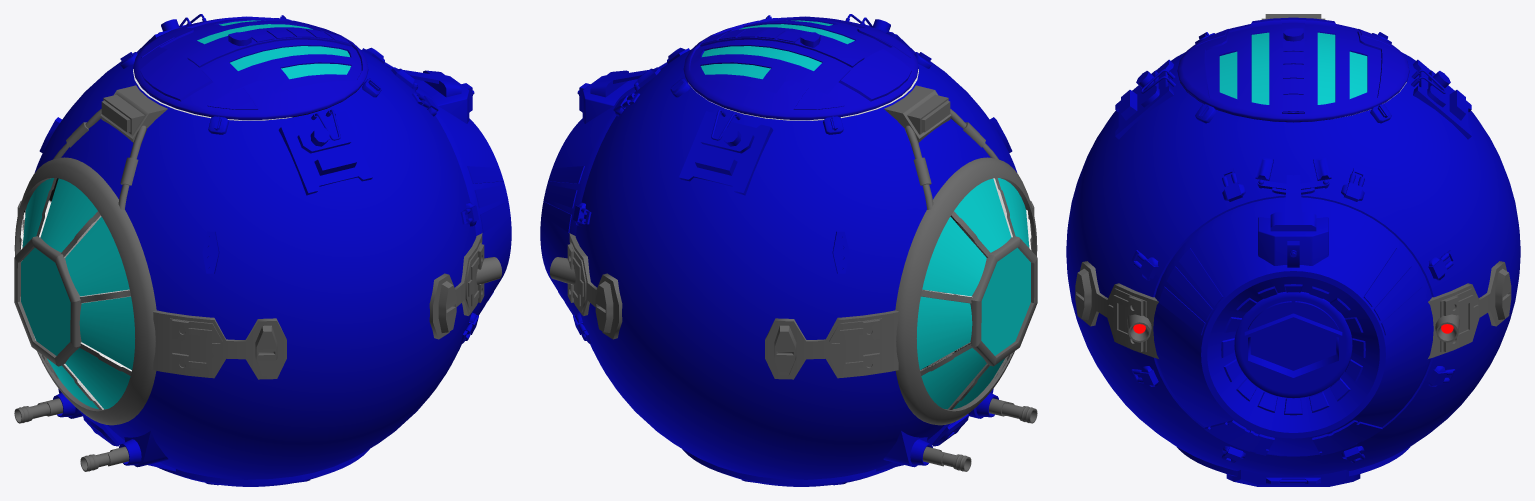
File: tiecockpit.fbx
The picture shows the model from 3 angles, left to right: view 1: azimuth 30°, elevation 25°; view 2: azimuth 150°, elevation 25°; view 3: azimuth 270°, elevation 25°; orthographic projection.
Visible parts, largest first — view 1: Hull, Hatch, Interior; view 2: Hull, Hatch, Interior; view 3: Hull, Hatch.
Part boxes in pixels (<box>): Hull: <box>14,14,511,486</box>; Hatch: <box>133,16,368,119</box>; Interior: <box>20,69,363,409</box>; Hull: <box>540,14,1037,486</box>; Hatch: <box>683,16,918,119</box>; Interior: <box>688,69,1031,378</box>; Hull: <box>1066,14,1520,486</box>; Hatch: <box>1177,17,1409,122</box>.
Bounding box in the file's own units: 282 × 273 × 262.
